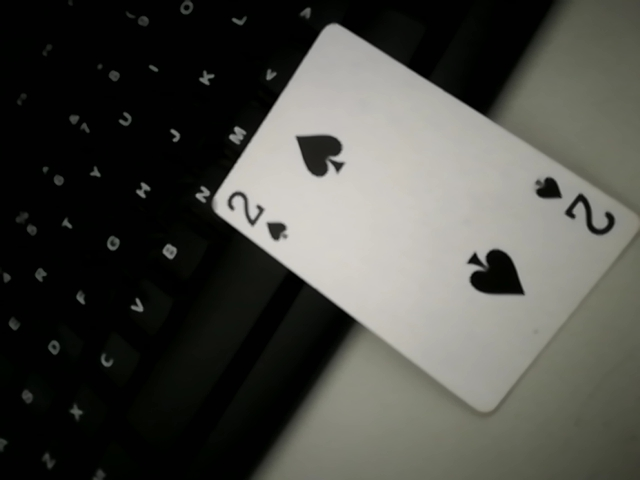ht 2: (203, 25, 635, 418)
